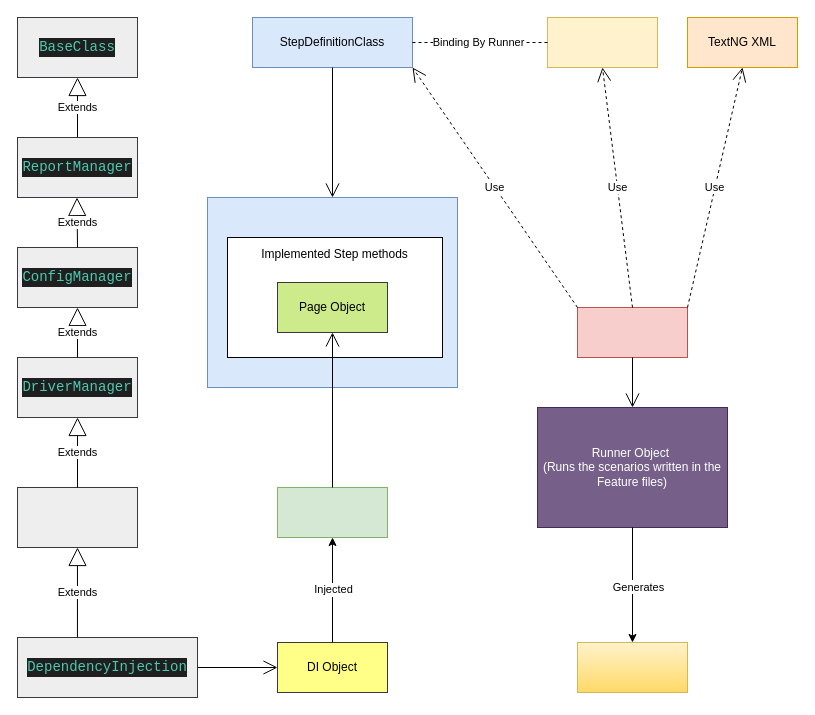
This 815x715 diagram has some shape labels left out. The shapes that lost their labels are listed below. From the top down, each one's box as (x1, y1, x2, y2) in pixels, then its label:
(546, 16, 658, 68): Feature File
(206, 196, 458, 388): Step Definition Class Object
(576, 306, 688, 358): Runner Class
(16, 486, 138, 548): ElementActions
(276, 486, 388, 538): PageClass
(576, 642, 688, 692): Test Report
